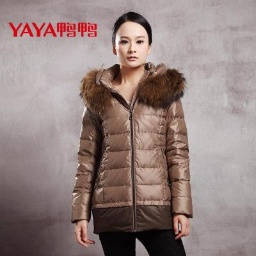face: (107, 8, 155, 70)
